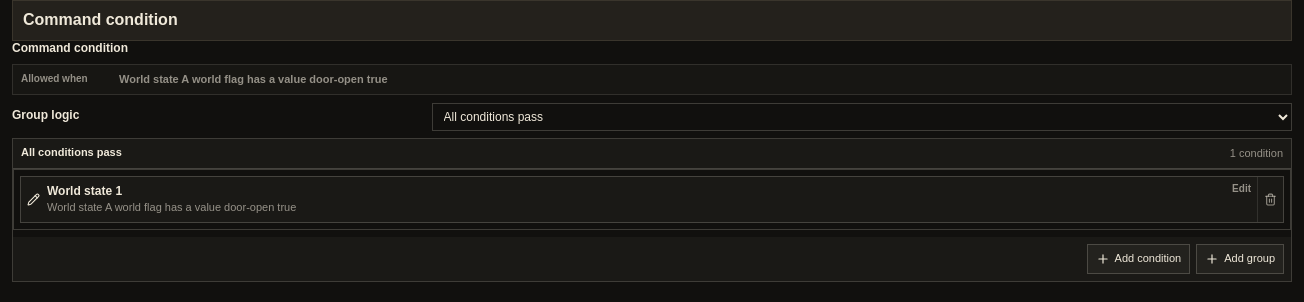
Test case: ConditionBuilderEditor › derives command condition options from the command condition schema
The image size is (1304, 302).
Click the button "Edit": x=85, y=191 [21, 177, 1257, 222]
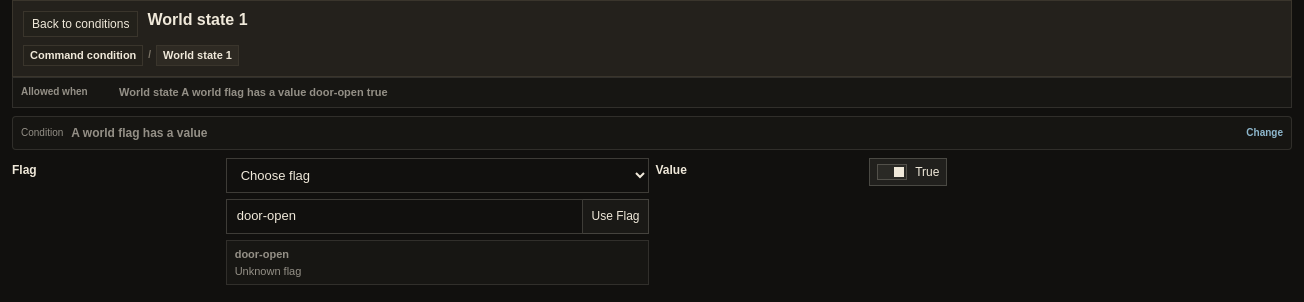
Expected: the button "Condition A world flag has a value Change" is shown, [12, 116, 1292, 150]
